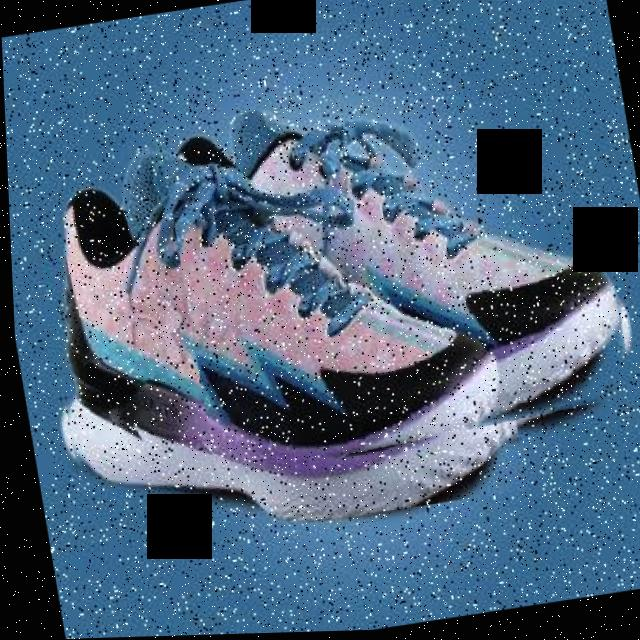shoe: (16, 99, 525, 558), (154, 63, 640, 484)
